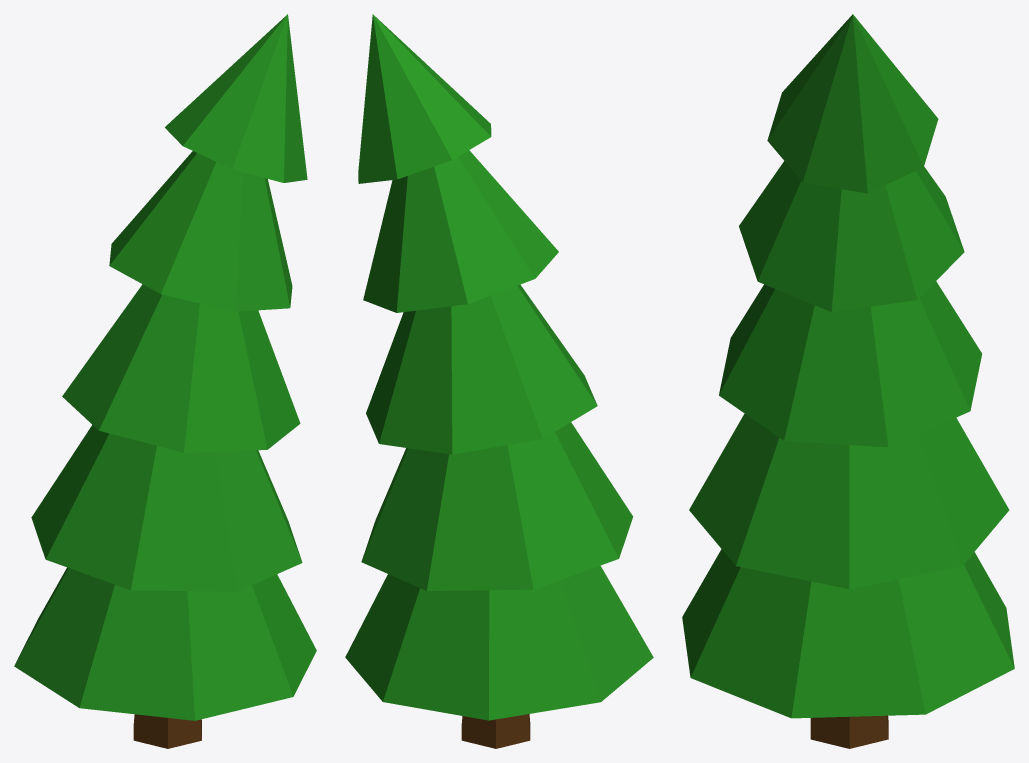
Rendered from Tree2.fbx.
3 views of the same model, side by side, from view 1: azimuth 30°, elevation 25°; view 2: azimuth 150°, elevation 25°; view 3: azimuth 270°, elevation 25° (orthographic). The views are drawn at different scales.
Parts seen in each view (by area): view 1: Pine Tree Tall Bent; view 2: Pine Tree Tall Bent; view 3: Pine Tree Tall Bent.
Boxes of the visible parts, box(x1,y1,x2,y2) form: Pine Tree Tall Bent: box(14, 14, 316, 748); Pine Tree Tall Bent: box(345, 14, 653, 748); Pine Tree Tall Bent: box(682, 14, 1014, 748).
Size of the model in its own units: 211 by 216 by 549.
